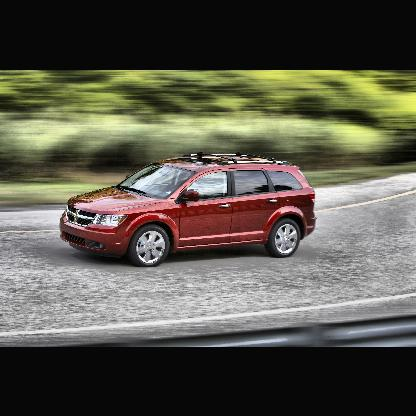Dodge Journey SUV 2012: (61, 153, 318, 266)
